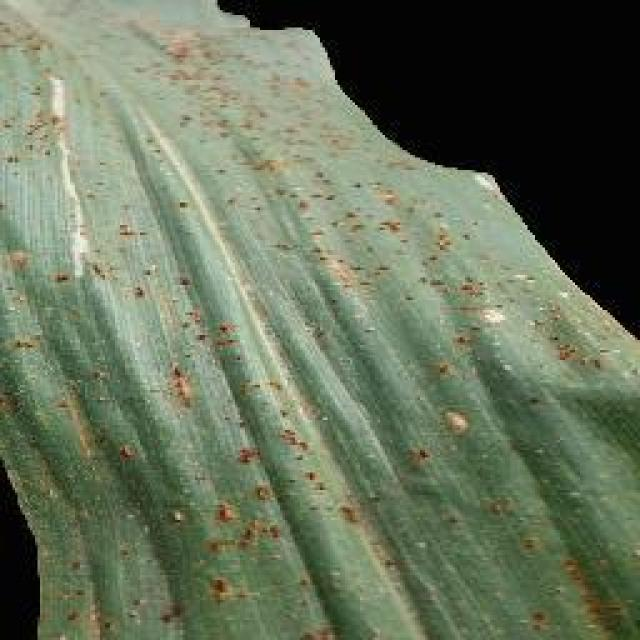Corn Common Rust: (55, 37, 640, 640)
